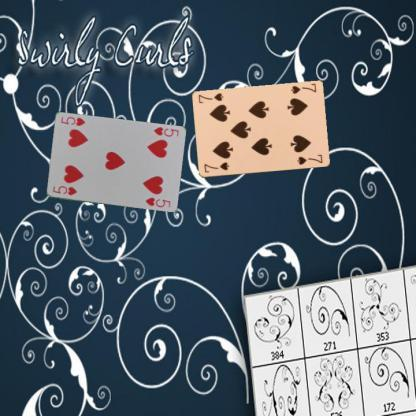5h: (150, 124, 180, 138), (51, 183, 78, 197)
7s: (288, 80, 318, 96), (201, 160, 231, 174)
